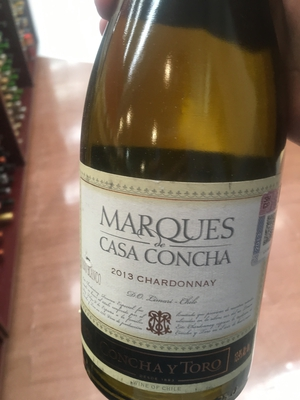marques de casa concha chardonnay: (69, 14, 286, 400)
